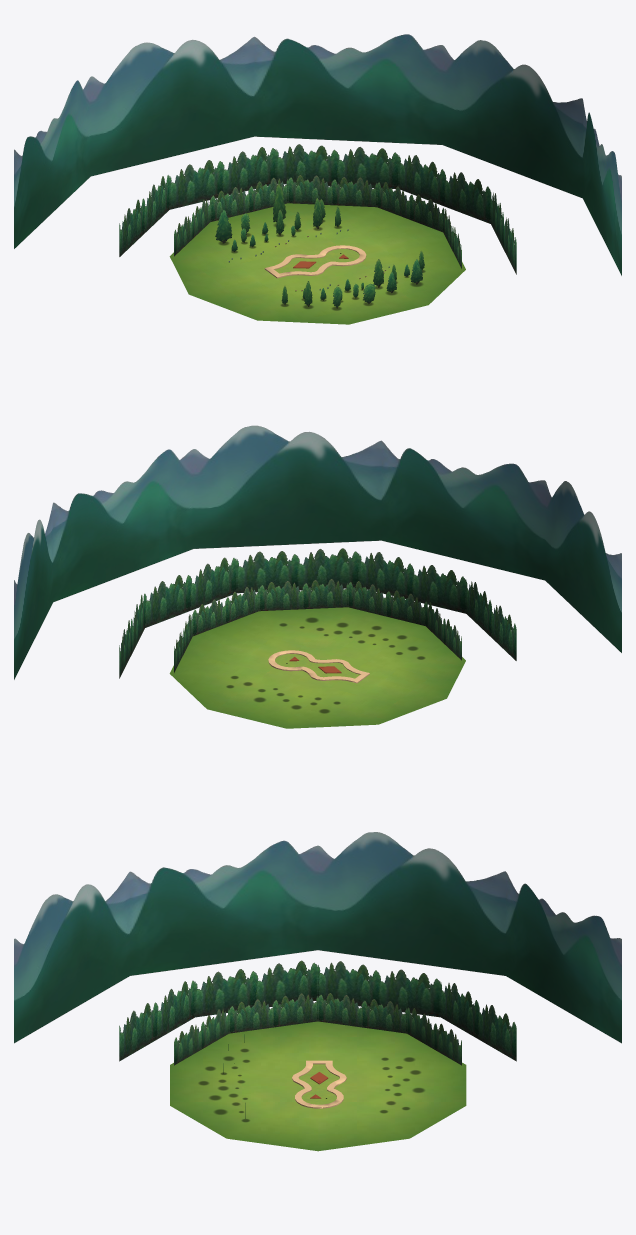
Rendered from hole10.glb.
The picture shows the model from 3 angles, top to bottom: view 1: azimuth 30°, elevation 25°; view 2: azimuth 150°, elevation 25°; view 3: azimuth 270°, elevation 25°; orthographic projection. The views are drawn at different scales.
Parts seen in each view (by area): view 1: background1, grass_base, background3, background2, edges1, grass1; view 2: background1, grass_base, background3, background2, edges1, grass1; view 3: background1, grass_base, background3, background2, edges1, grass1.
Part boxes in pixels (x1,y1,x2,y2): background1: [14, 34, 621, 275]; grass_base: [169, 203, 465, 324]; background3: [119, 144, 516, 274]; background2: [174, 175, 461, 268]; edges1: [264, 245, 366, 278]; grass1: [274, 249, 359, 273]; background1: [14, 425, 621, 679]; grass_base: [169, 607, 465, 728]; background3: [119, 548, 516, 678]; background2: [174, 579, 461, 672]; edges1: [268, 650, 369, 683]; grass1: [275, 654, 359, 678]; background1: [14, 832, 621, 1043]; grass_base: [170, 1021, 466, 1151]; background3: [119, 960, 516, 1061]; background2: [174, 993, 461, 1065]; edges1: [292, 1060, 346, 1108]; grass1: [299, 1064, 339, 1104].
Size of what is drawn, in the model's own units: 347 by 78.81 by 330.
Materials: 10 (9 with a texture image).
